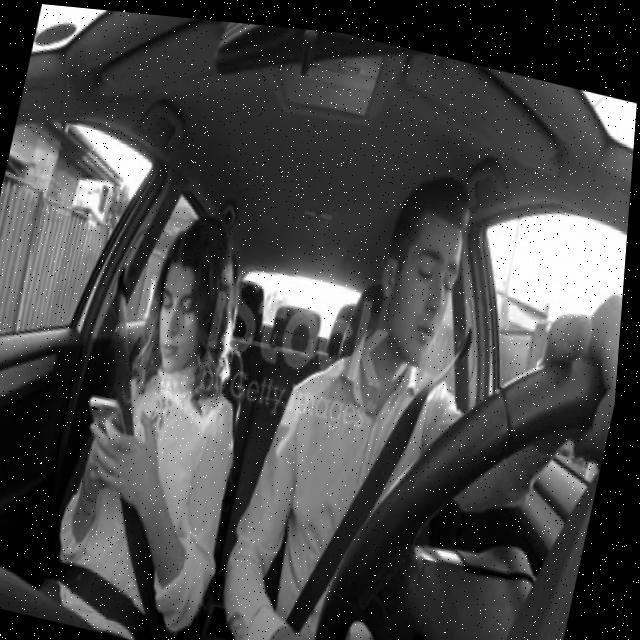PhoneCall: (80, 391, 139, 474)
